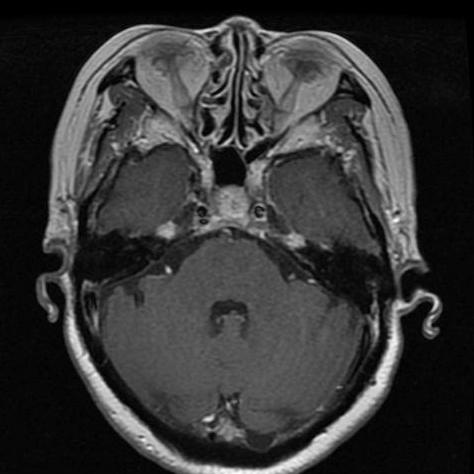Tumour-Pituitary: (193, 185, 271, 237)
